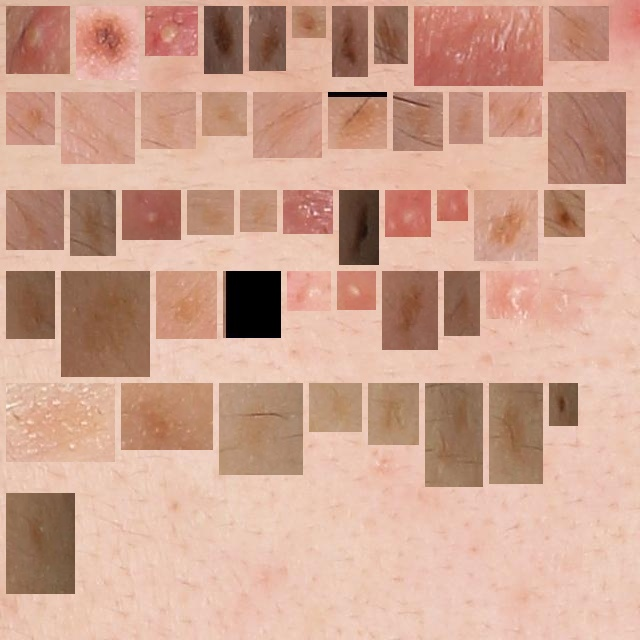hypertrophic_scar: (422, 14, 535, 78)
melasma: (69, 279, 142, 369), (14, 391, 107, 454), (227, 391, 295, 467), (556, 100, 618, 176), (14, 501, 67, 586), (129, 391, 205, 442), (433, 391, 475, 479), (69, 100, 127, 156), (497, 391, 535, 476), (261, 100, 314, 150), (482, 198, 530, 253), (164, 279, 209, 331), (231, 279, 273, 330), (14, 198, 56, 242), (336, 100, 379, 141), (557, 14, 601, 53), (14, 279, 47, 331), (376, 391, 411, 437), (149, 100, 188, 141), (78, 198, 108, 248), (401, 100, 435, 143), (14, 100, 47, 137), (317, 391, 354, 424), (497, 100, 534, 129), (452, 279, 472, 328), (195, 198, 226, 227), (210, 100, 239, 128), (457, 100, 475, 136), (248, 198, 269, 224)
nevus: (84, 14, 131, 72), (390, 279, 430, 342), (347, 198, 371, 257), (212, 14, 235, 66), (340, 14, 360, 69), (257, 14, 278, 63), (552, 198, 577, 229), (382, 14, 400, 56), (557, 391, 570, 418), (300, 14, 318, 30)
pustule: (14, 14, 62, 66), (130, 198, 173, 232), (153, 14, 190, 48), (494, 279, 533, 311), (291, 198, 325, 226), (393, 198, 423, 229), (345, 279, 368, 302), (445, 198, 460, 213)
